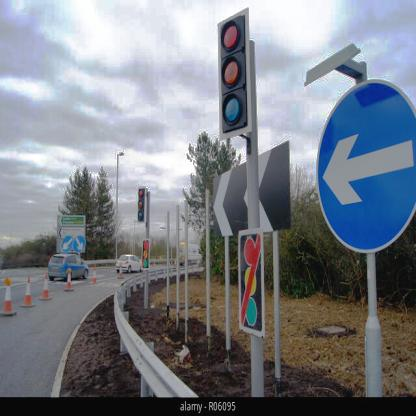Keep left: (320, 77, 416, 256), (62, 235, 73, 253)
Keep right: (74, 234, 86, 254)
